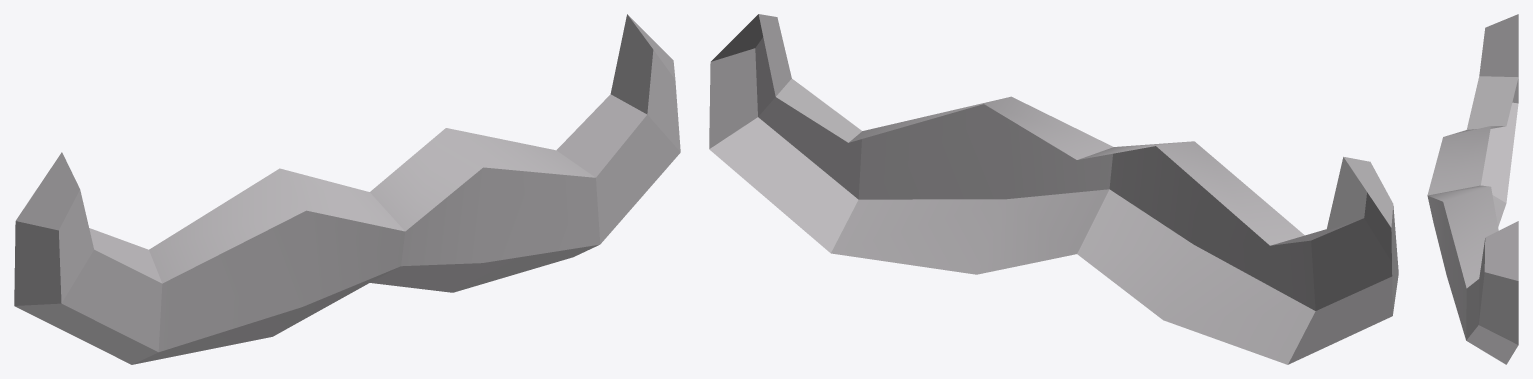
Rendered from SM_Chr_Attach_Mustache_02.fbx.
3 views of the same model, side by side, from view 1: azimuth 30°, elevation 25°; view 2: azimuth 150°, elevation 25°; view 3: azimuth 270°, elevation 25° (orthographic). The views are drawn at different scales.
Visible parts, largest first — view 1: SM_Chr_Attach_Mustache_02; view 2: SM_Chr_Attach_Mustache_02; view 3: SM_Chr_Attach_Mustache_02.
Part boxes in pixels (x1=…): SM_Chr_Attach_Mustache_02: x1=14, y1=14, x2=680, y2=364; SM_Chr_Attach_Mustache_02: x1=709, y1=14, x2=1398, y2=364; SM_Chr_Attach_Mustache_02: x1=1427, y1=14, x2=1518, y2=364.
Bounding box in the file's own units: 22.79 × 7.33 × 3.63.
